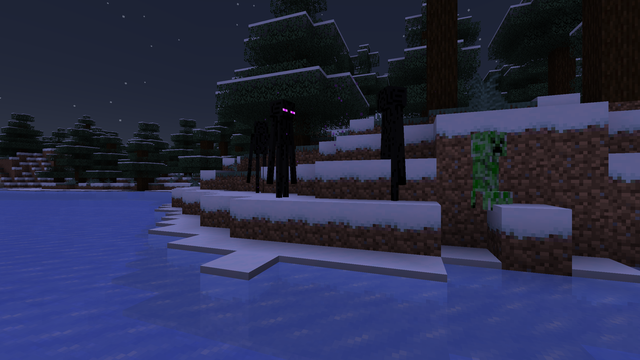creepers: (469, 126, 507, 209)
endermens: (377, 80, 404, 206), (267, 95, 295, 202), (249, 118, 263, 196)
